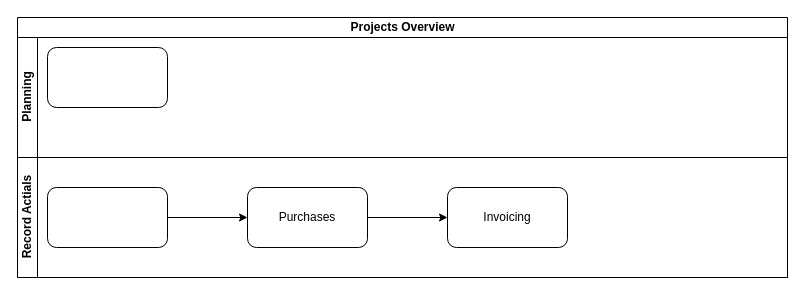
This 805x295 diagram has some shape labels left out. Each missing label, with the centre of its shape:
"Capture hours" goes at [107,217].
"Create" goes at [107,77].
